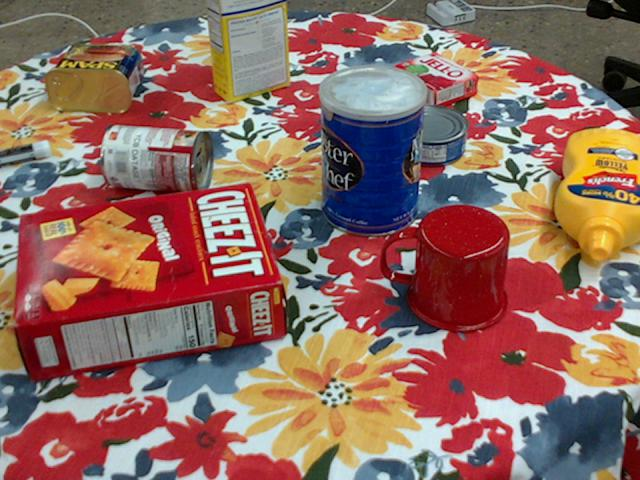cracker_box: (17, 184, 283, 381)
gelatin_box: (389, 54, 476, 111)
large_marker: (0, 139, 51, 165)
master_chef_can: (318, 65, 425, 238)
mug: (381, 204, 509, 333)
mustard_bottle: (553, 127, 639, 259)
potted_meat_can: (45, 43, 143, 112)
sugar_box: (207, 0, 289, 100)
tomato_soup_can: (100, 125, 211, 194)
tuna_fish_can: (392, 105, 468, 166)
